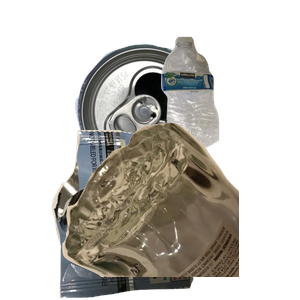glass: (60, 120, 300, 300)
metal: (73, 42, 277, 212)
plastic: (159, 34, 300, 176)
trash: (49, 130, 235, 300)
